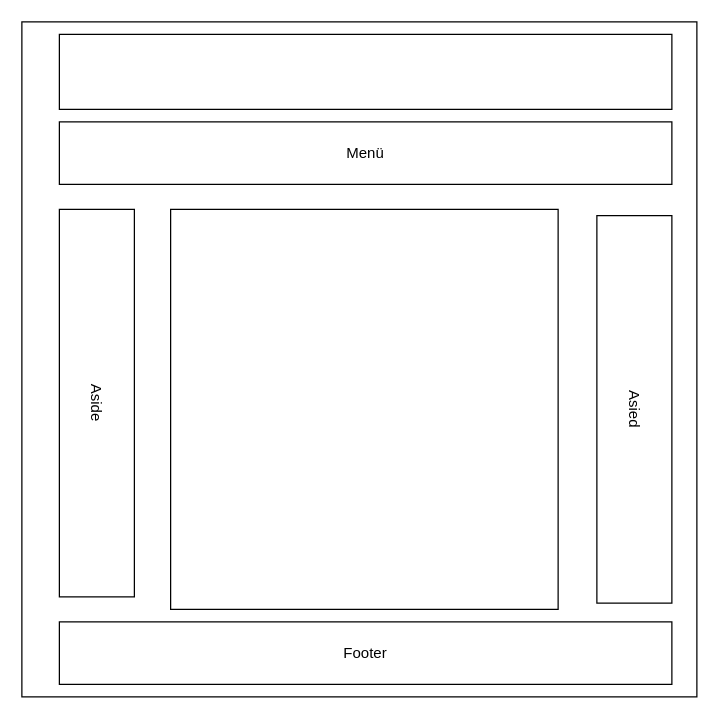
Image size: 719x719. Some labels were removed from this diagram. The centre of each missing label's shape, as x and y in pixels:
"Article" goes at [363,408].
"Cím" goes at [365,71].
